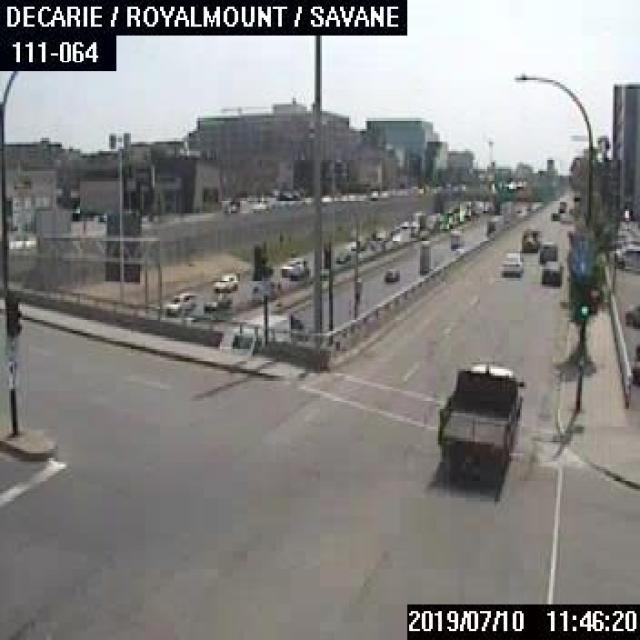vehicle: (436, 360, 522, 468), (611, 243, 638, 274), (279, 256, 308, 276), (164, 292, 193, 312), (500, 250, 523, 275), (541, 258, 562, 284), (211, 270, 236, 291), (202, 292, 230, 310), (622, 302, 638, 330), (537, 240, 556, 262), (521, 226, 537, 250), (334, 248, 348, 262), (382, 268, 397, 280), (448, 230, 459, 246), (556, 200, 565, 211)
